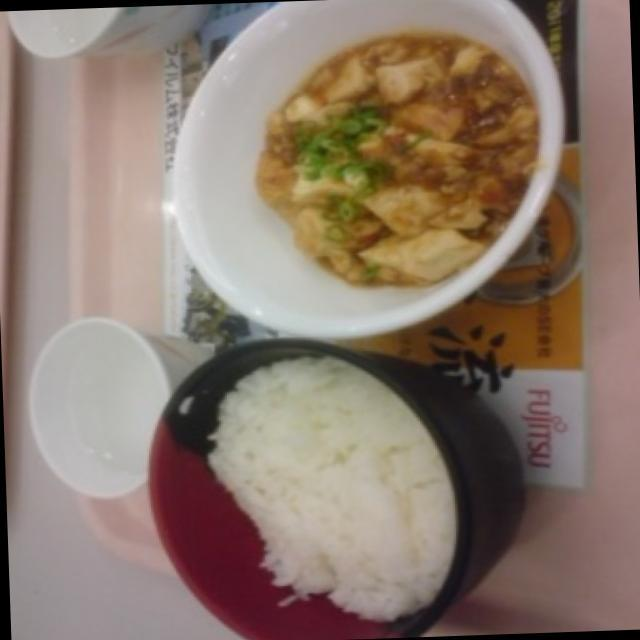Rice: (218, 376, 440, 632)
